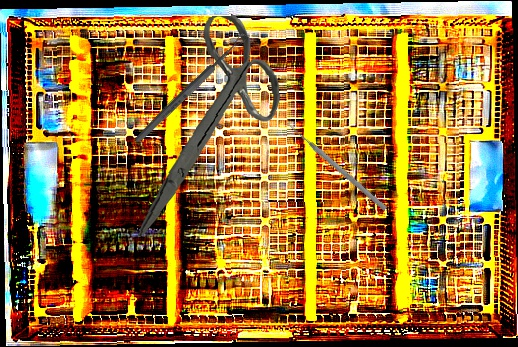Iris Scissors: (124, 13, 287, 236)
Pusher: (284, 120, 389, 212)
Surgical Spoon: (132, 31, 250, 146)
